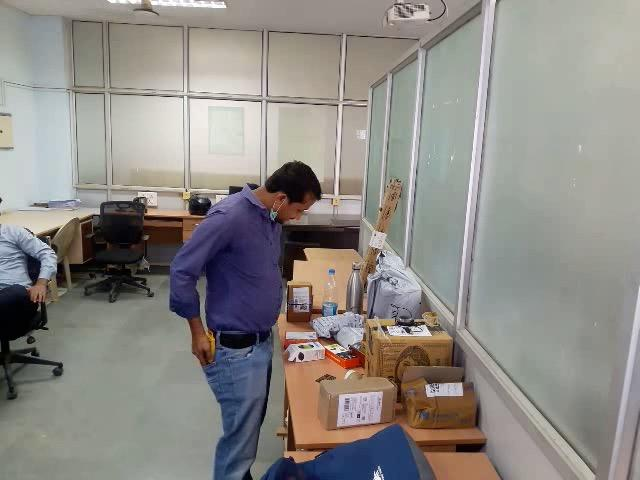shoplifting: (111, 287, 322, 425)
